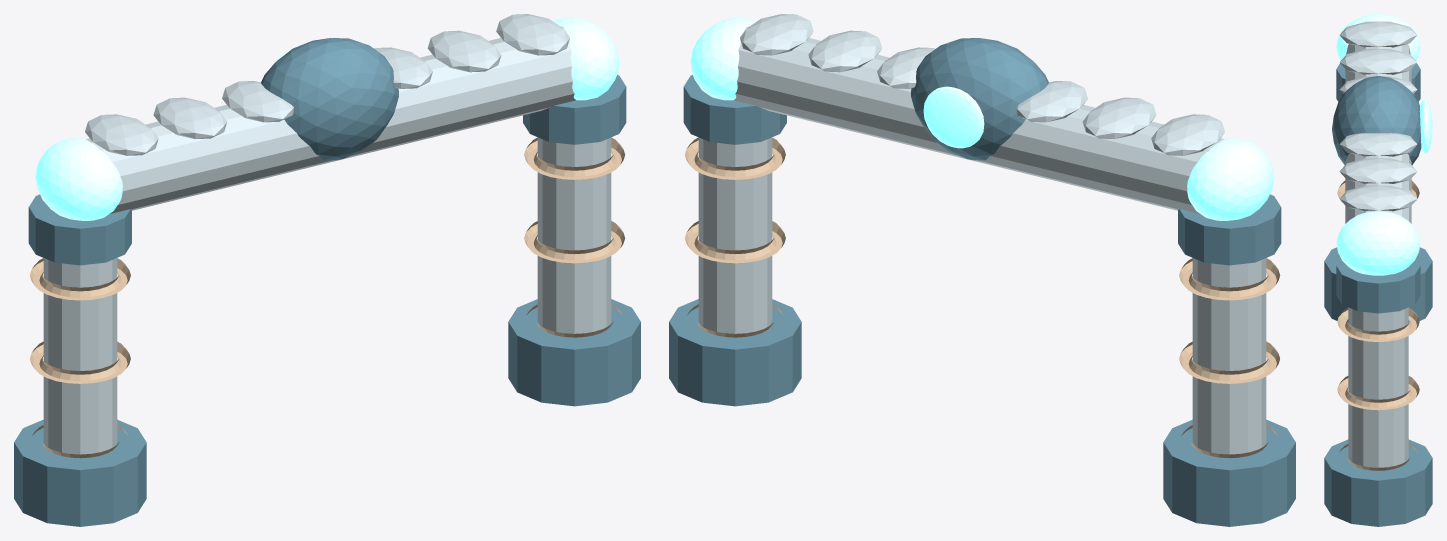
File: dream_arch_mk2.glb
The picture shows the model from 3 angles, left to right: view 1: azimuth 30°, elevation 25°; view 2: azimuth 150°, elevation 25°; view 3: azimuth 270°, elevation 25°; orthographic projection. The views are drawn at different scales.
Parts seen in each view (by area): view 1: arch_lintel_15, column_1, column_8, keystone_16, column_base_3, column_base_10, column_gem_4, column_cap_2, column_cap_9, column_gem_11, arch_tiles_18, arch_tiles_24 (+8 smaller); view 2: arch_lintel_15, column_1, column_8, column_base_3, column_base_10, keystone_16, column_gem_4, column_cap_2, column_cap_9, column_gem_11, arch_symbol_17, arch_tiles_18 (+9 smaller); view 3: column_8, column_base_10, keystone_16, column_gem_11, column_cap_9, column_base_3, arch_lintel_15, arch_tiles_18, arch_tiles_24, arch_tiles_23, arch_tiles_19, arch_tiles_22 (+8 smaller).
Boxes of the visible parts, left/top/right/bottom form: arch_lintel_15: left=86, top=26, right=575, bottom=213; column_1: left=43, top=258, right=117, bottom=454; column_8: left=537, top=137, right=611, bottom=333; keystone_16: left=261, top=38, right=398, bottom=160; column_base_3: left=14, top=419, right=146, bottom=526; column_base_10: left=508, top=299, right=640, bottom=406; column_gem_4: left=35, top=138, right=122, bottom=220; column_cap_2: left=28, top=194, right=131, bottom=265; column_cap_9: left=523, top=75, right=626, bottom=144; column_gem_11: left=553, top=18, right=619, bottom=100; arch_tiles_18: left=85, top=114, right=158, bottom=155; arch_tiles_24: left=496, top=14, right=569, bottom=55; arch_lintel_15: left=734, top=26, right=1223, bottom=213; column_1: left=1192, top=258, right=1266, bottom=454; column_8: left=698, top=137, right=772, bottom=333; column_base_3: left=1163, top=419, right=1295, bottom=526; column_base_10: left=669, top=299, right=801, bottom=406; keystone_16: left=911, top=38, right=1048, bottom=160; column_gem_4: left=1187, top=138, right=1274, bottom=220; column_cap_2: left=1178, top=194, right=1281, bottom=265; column_cap_9: left=683, top=75, right=786, bottom=144; column_gem_11: left=690, top=18, right=756, bottom=100; arch_symbol_17: left=923, top=86, right=984, bottom=148; arch_tiles_18: left=1151, top=114, right=1224, bottom=155; column_8: left=1348, top=307, right=1408, bottom=467; column_base_10: left=1324, top=439, right=1432, bottom=526; keystone_16: left=1332, top=76, right=1421, bottom=165; column_gem_11: left=1336, top=211, right=1420, bottom=275; column_cap_9: left=1336, top=259, right=1420, bottom=313; column_base_3: left=1324, top=247, right=1432, bottom=322; arch_lintel_15: left=1345, top=44, right=1411, bottom=223; arch_tiles_18: left=1339, top=21, right=1417, bottom=47; arch_tiles_24: left=1339, top=185, right=1417, bottom=211; arch_tiles_23: left=1339, top=158, right=1417, bottom=183; arch_tiles_19: left=1339, top=49, right=1417, bottom=74; arch_tiles_22: left=1339, top=133, right=1417, bottom=156.
Size of the model in its own units: 3.82 by 2.38 by 0.72.
